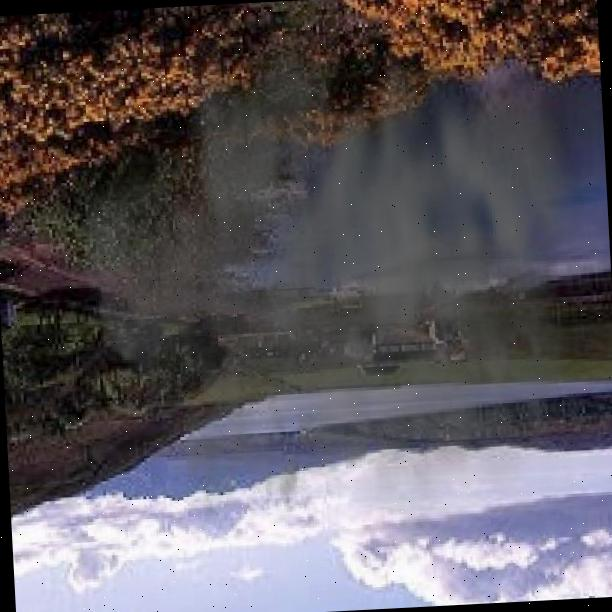smoke: (75, 0, 612, 578)
